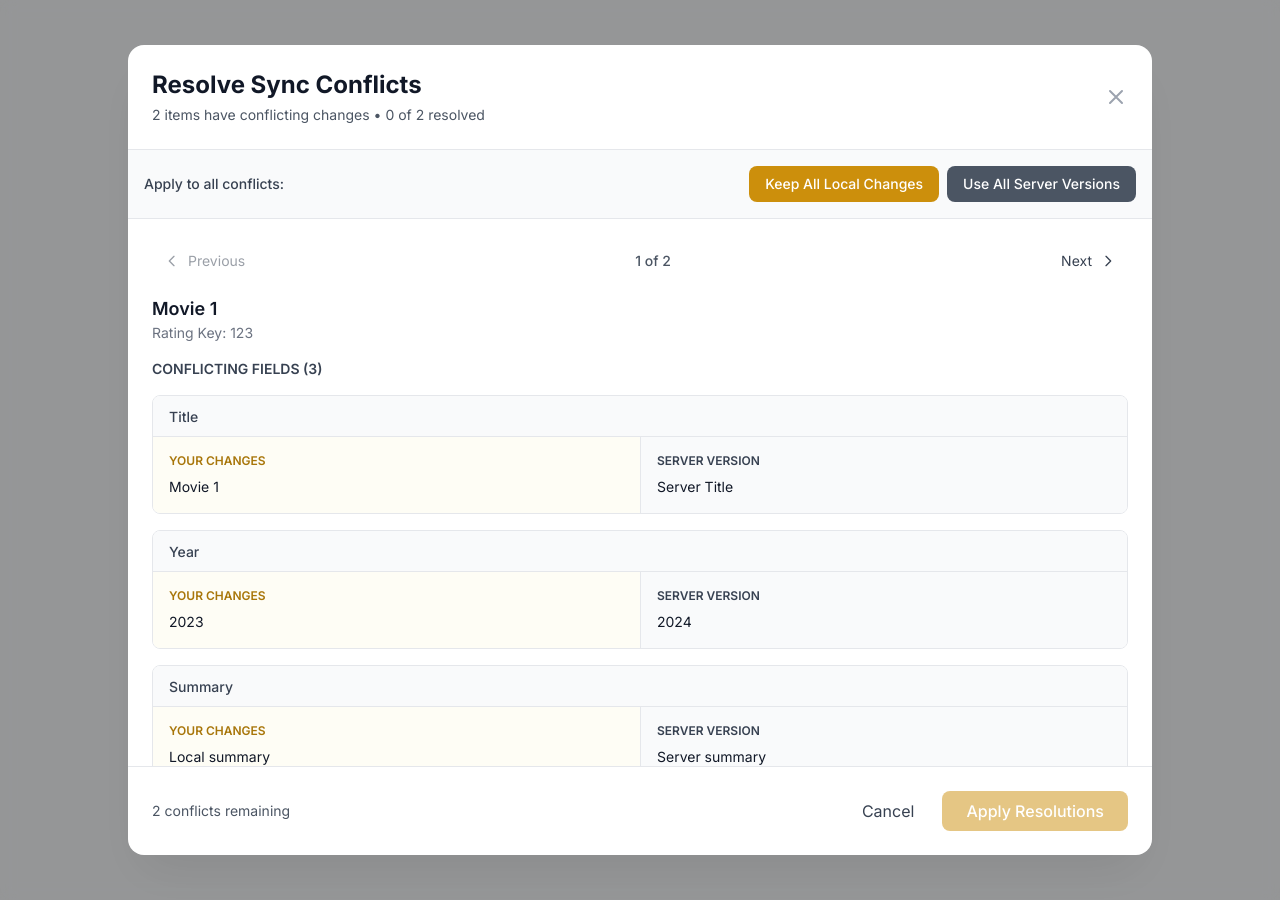
Test: ConflictResolutionModal › Navigation › should navigate to previous conflict
The image size is (1280, 900).
# Go to second conflict
Click the button "Next": x=1089, y=261 [1049,243,1128,279]
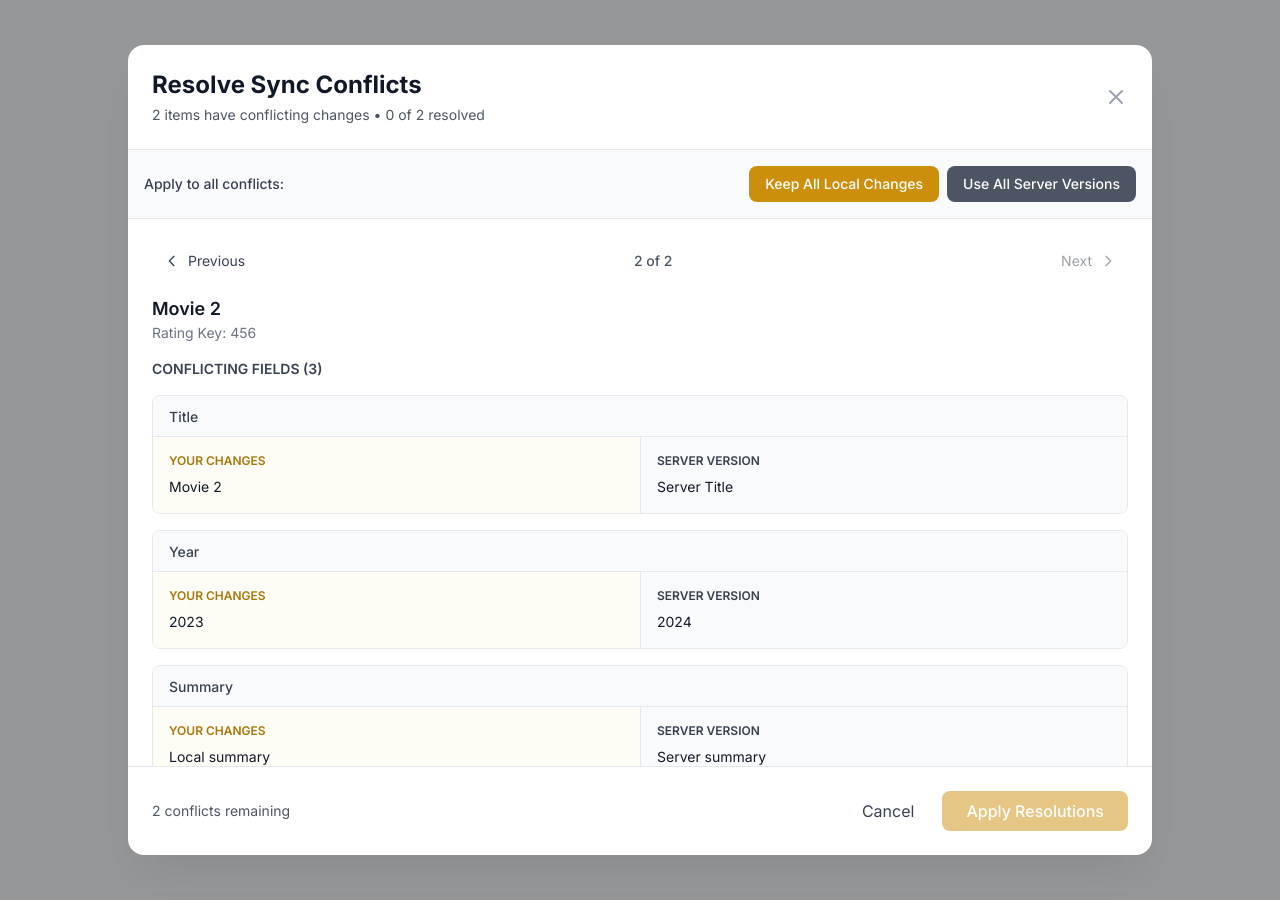
Expected: the heading "Movie 2" is shown, [152,298,221,319]
# Go back to first
Click the button "Previous": x=205, y=261 [152,243,257,279]
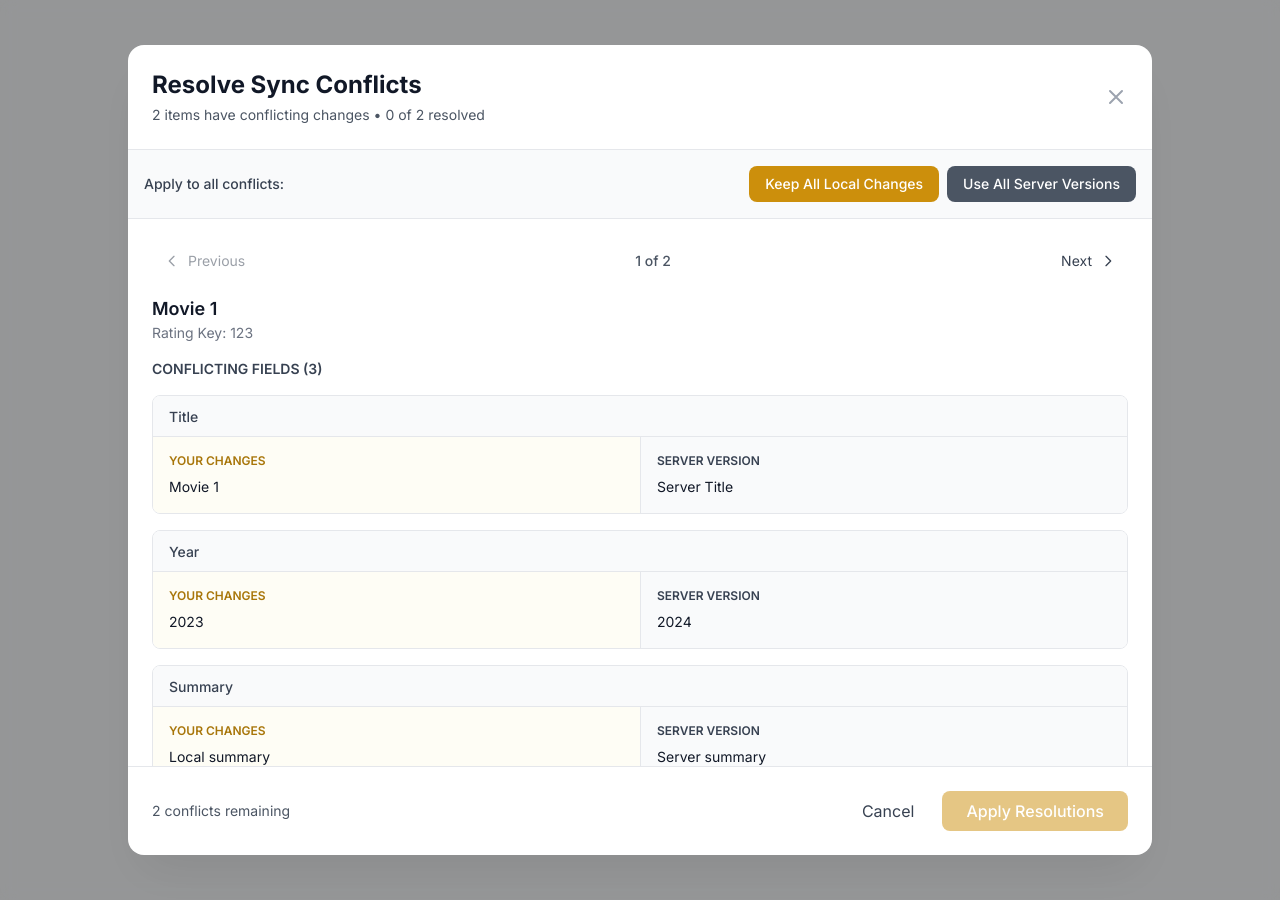
Expected: the heading "Movie 1" is shown, [152,298,217,319]
